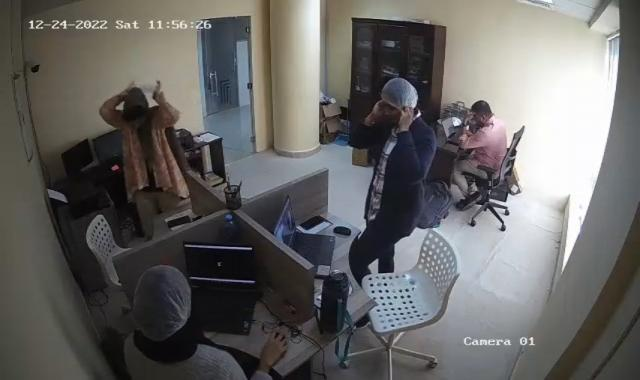hairnet: (130, 265, 192, 343), (382, 74, 418, 114)
no_hairnet: (470, 100, 492, 126)
